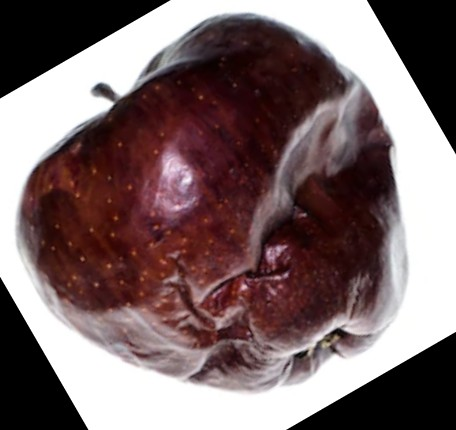rotten_apple: (15, 14, 407, 391)
